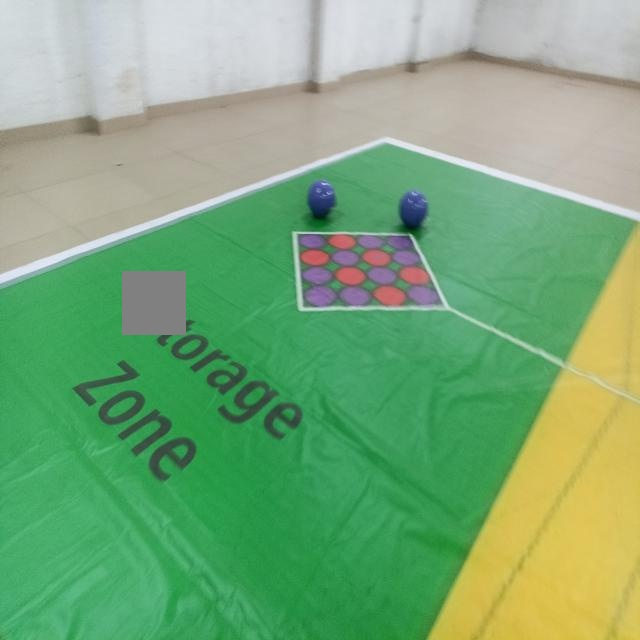purple_ball: (308, 178, 339, 221), (398, 188, 428, 232)
